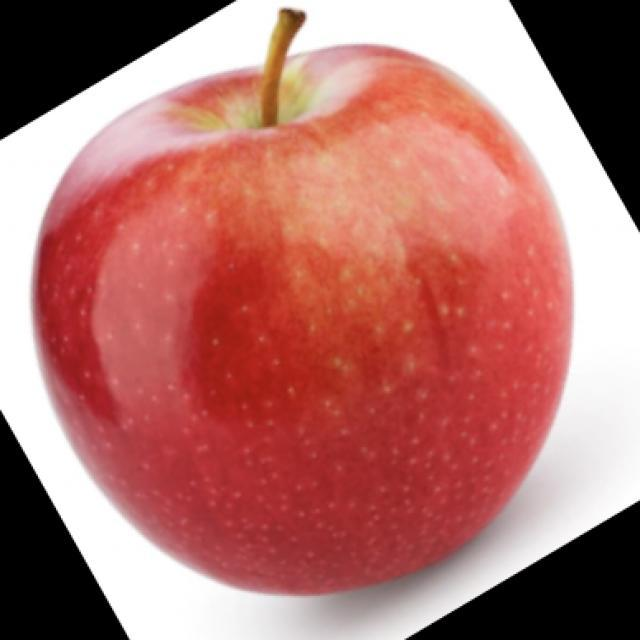Fresh Apple: (22, 35, 582, 591)
